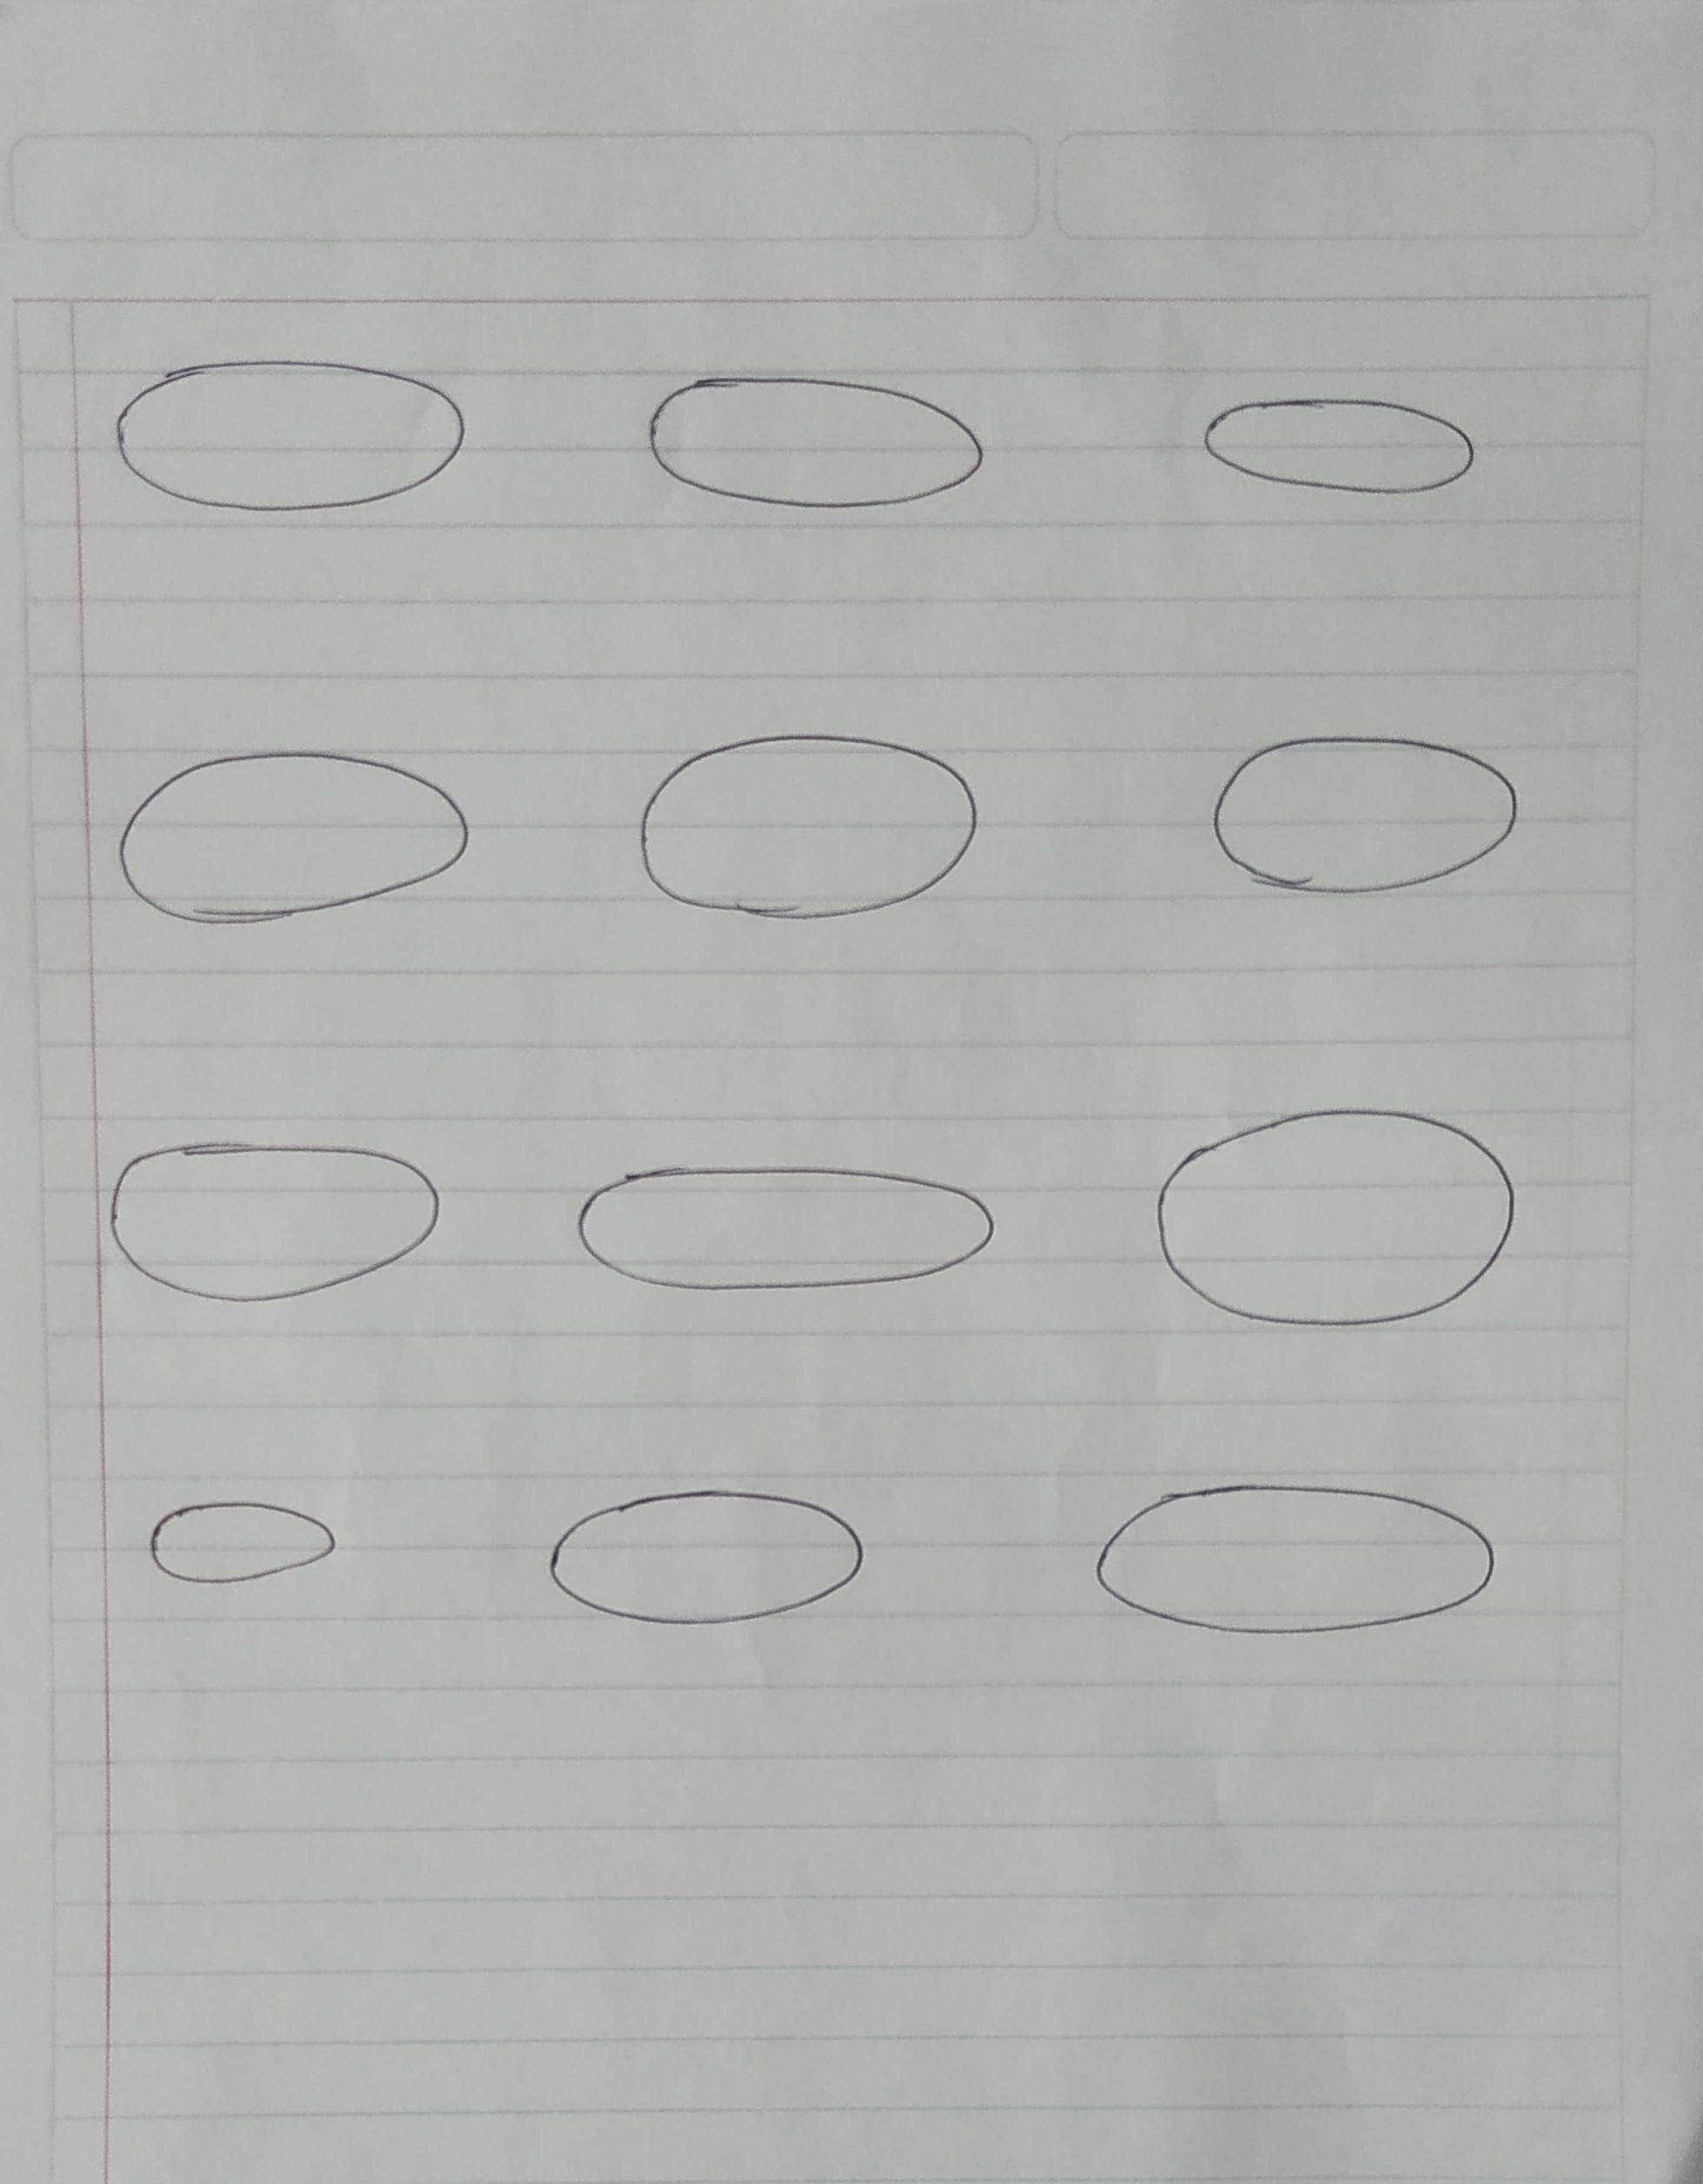start_end: (1148, 1101, 1526, 1335), (629, 723, 989, 929), (1088, 1471, 1508, 1642), (112, 743, 473, 929), (567, 1156, 1007, 1301), (101, 1129, 447, 1312), (103, 349, 471, 516), (1207, 727, 1526, 908), (640, 362, 992, 525), (540, 1471, 874, 1638), (1194, 381, 1483, 507), (140, 1486, 342, 1592)
